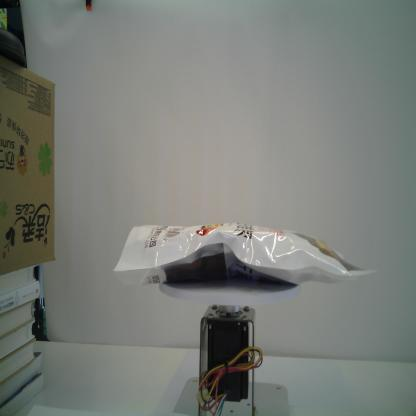Dried Food: (112, 220, 380, 290)
